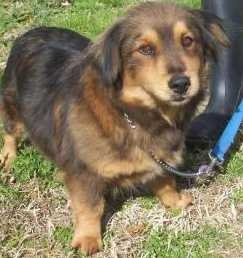Dog: (0, 2, 211, 250)
